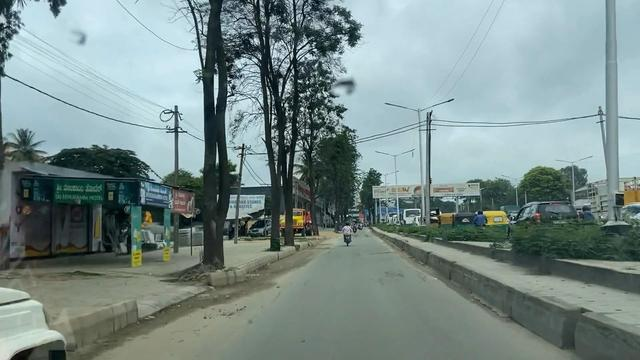RoadDamages: (200, 297, 260, 334), (369, 262, 420, 291)
